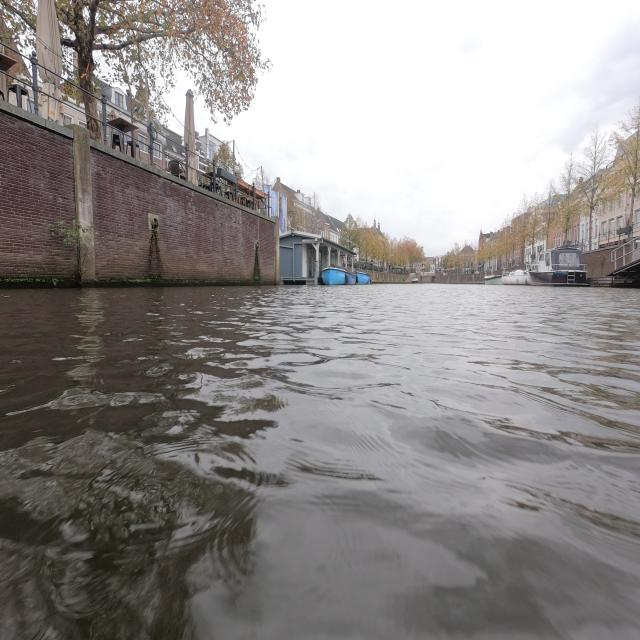boat: (529, 248, 587, 285), (321, 266, 356, 285), (500, 269, 531, 285), (356, 271, 371, 284), (57, 32, 59, 34)
sky: (246, 4, 638, 252)
tree: (55, 0, 268, 140)
wall: (54, 128, 282, 282), (2, 106, 78, 278)
water: (10, 290, 638, 632)
